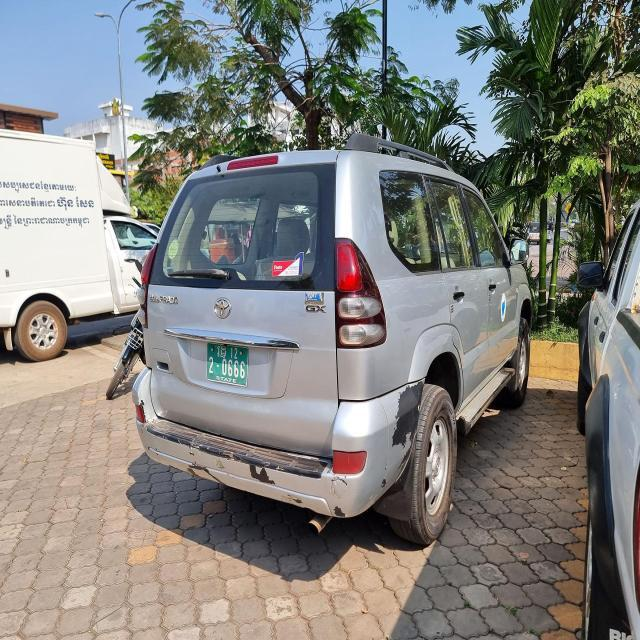State: (217, 345, 227, 359)
